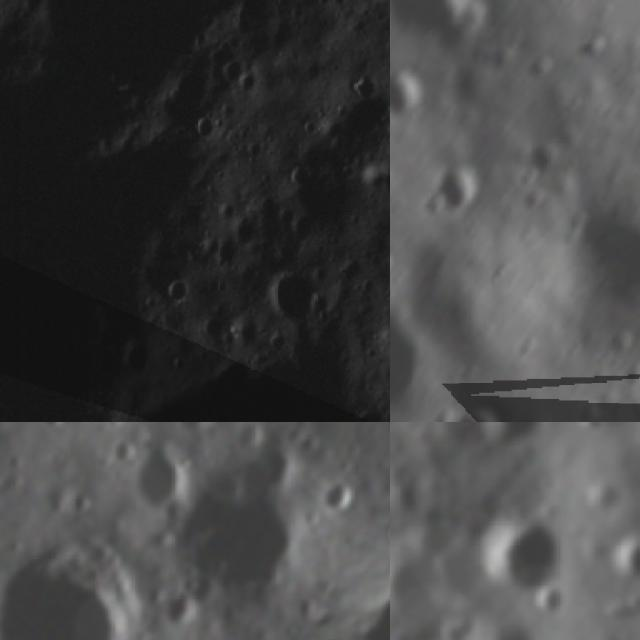crater: (132, 422, 364, 640), (0, 507, 189, 640), (479, 511, 568, 608), (116, 436, 207, 528), (571, 197, 640, 318), (390, 540, 464, 640), (390, 0, 475, 57), (421, 155, 487, 224), (463, 422, 560, 468), (150, 582, 207, 640), (312, 474, 368, 530), (270, 270, 322, 326), (599, 523, 640, 594), (390, 68, 431, 125), (517, 133, 565, 177), (468, 614, 548, 640), (100, 428, 145, 474), (223, 422, 274, 462), (62, 482, 104, 525), (523, 48, 563, 88), (442, 400, 514, 422), (27, 422, 80, 445), (217, 56, 251, 88), (157, 279, 194, 307), (168, 422, 217, 441), (347, 72, 375, 103), (206, 629, 269, 640), (199, 119, 221, 141)
